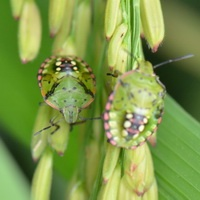insect: (103, 54, 193, 148), (38, 56, 95, 123)
